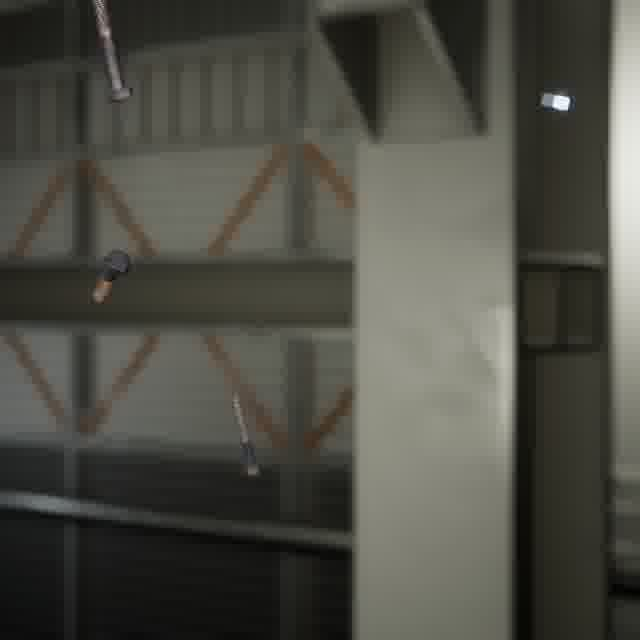bolt: (86, 0, 136, 106), (227, 389, 267, 479), (87, 245, 136, 305)
nut: (536, 88, 578, 116)
